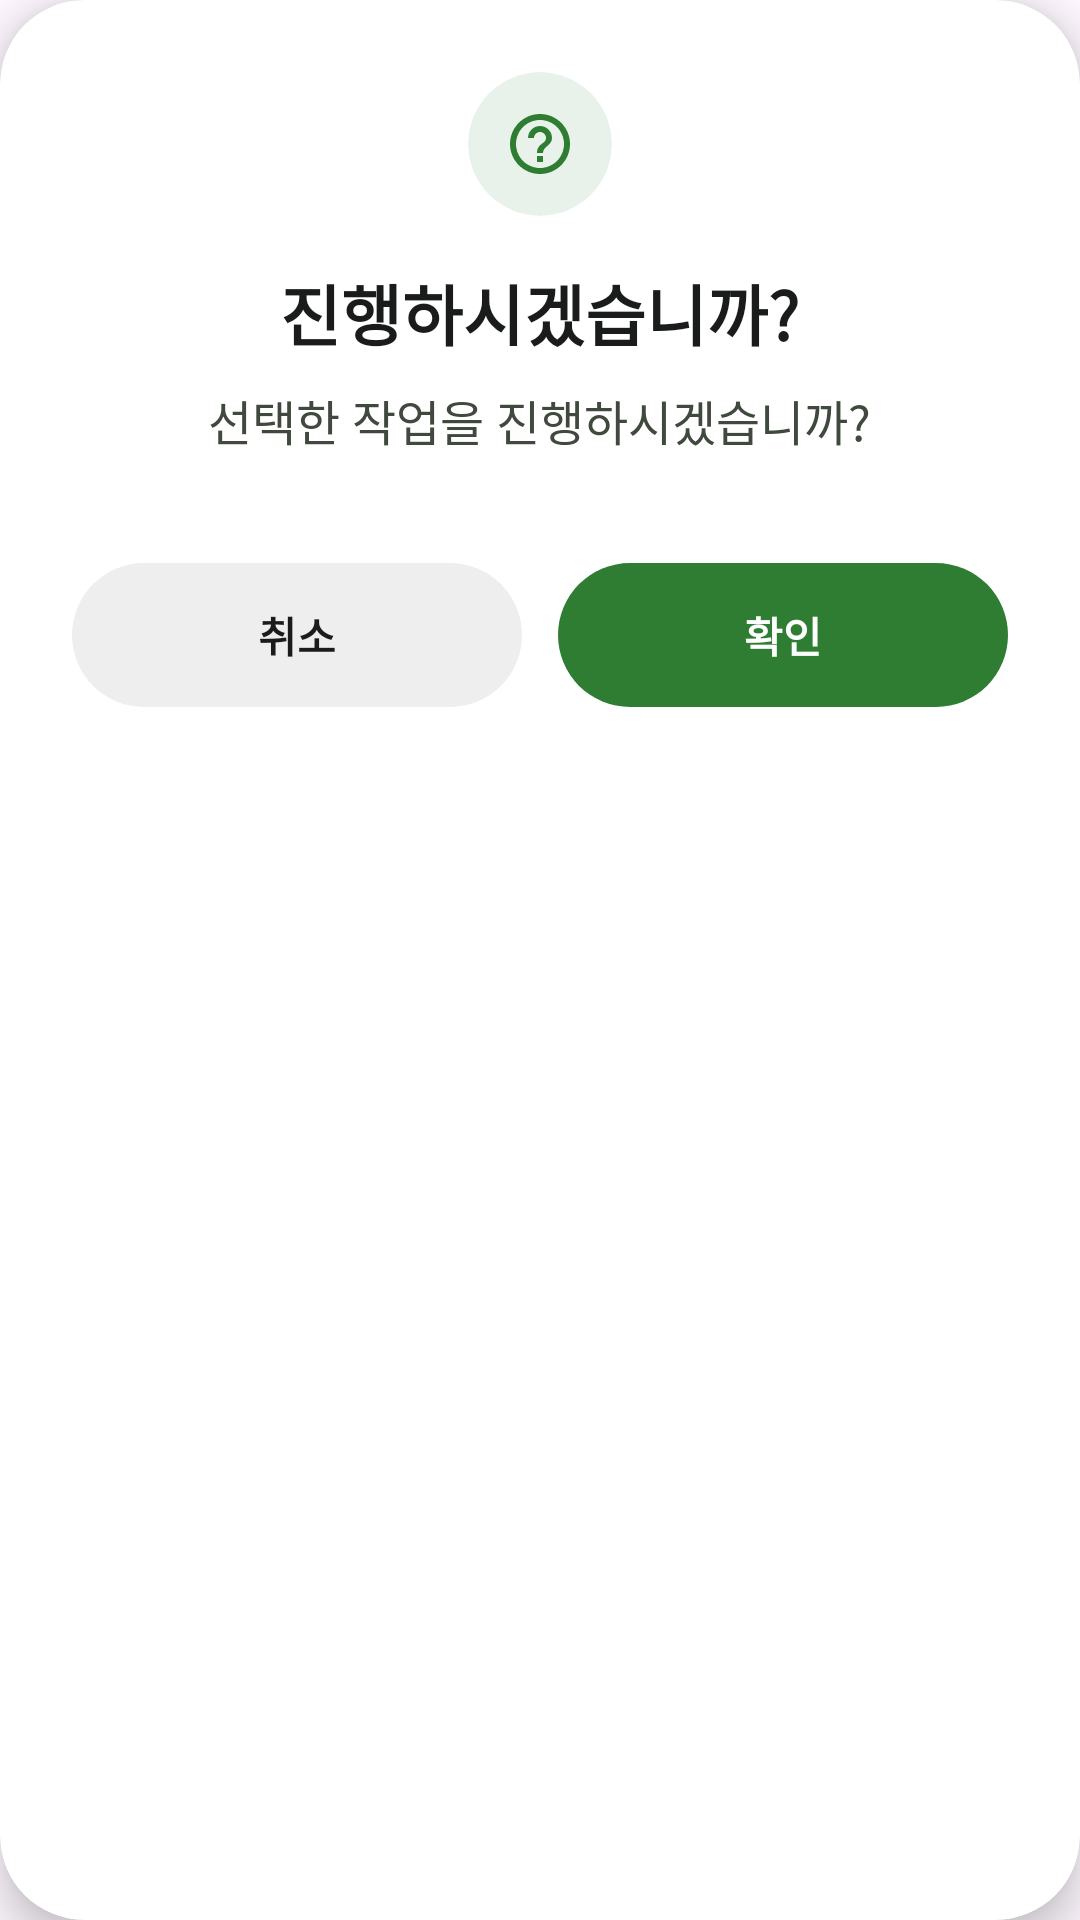

Icon click points for this 1080 × 1920 phone screenshot, format [x,y]:
help: [540,144]
